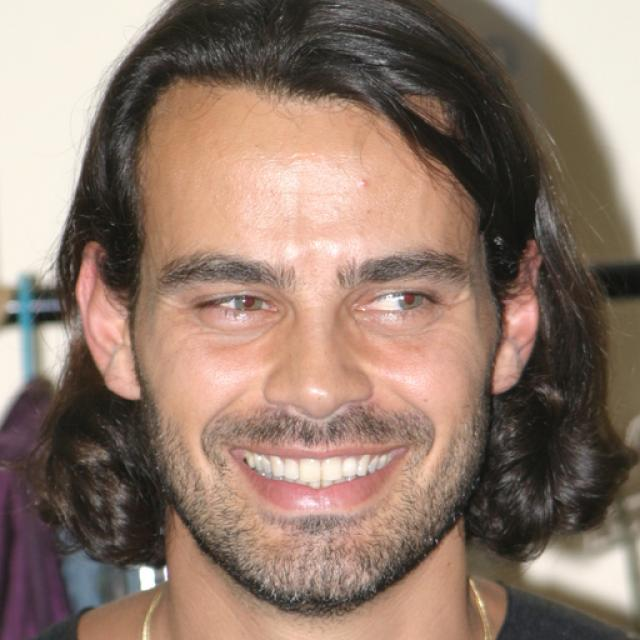Acne: (359, 171, 372, 194)
